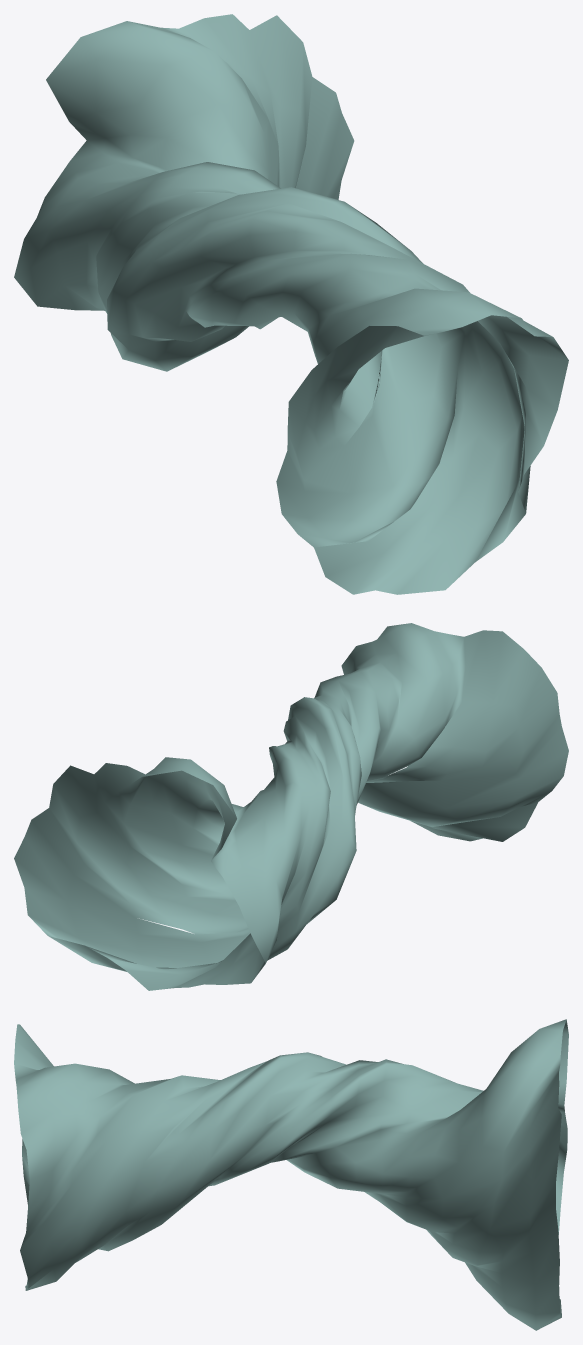
The model's file is Gideon_Storm.FBX.
3 renders of one model, top to bottom at view 1: azimuth 30°, elevation 25°; view 2: azimuth 150°, elevation 25°; view 3: azimuth 270°, elevation 25°, orthographic. The views are drawn at different scales.
Visible parts, largest first — view 1: Gideon_Storm; view 2: Gideon_Storm; view 3: Gideon_Storm.
Part boxes in pixels (x1,y1,x2,y2): Gideon_Storm: [14, 14, 568, 594]; Gideon_Storm: [14, 623, 568, 990]; Gideon_Storm: [14, 1019, 568, 1330].
Bounding box in the file's own units: 24.26 × 35.02 × 18.63.
